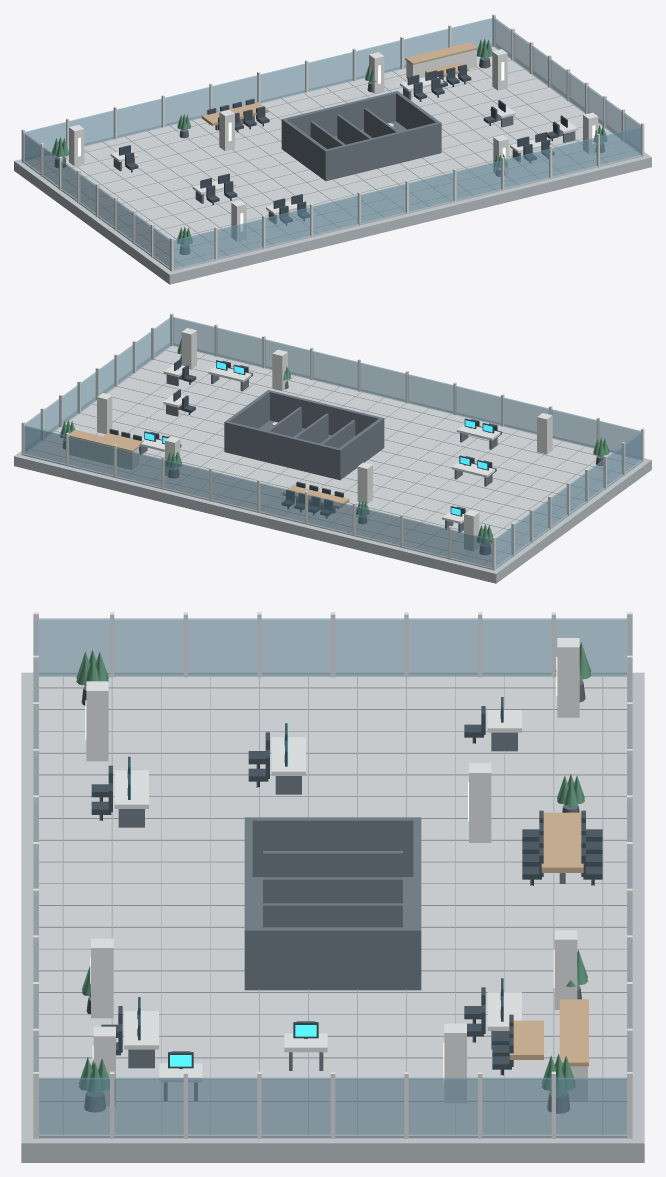
The model's file is open-office-floor.glb.
The picture shows the model from 3 angles, top to bottom: view 1: azimuth 30°, elevation 25°; view 2: azimuth 150°, elevation 25°; view 3: azimuth 270°, elevation 25°; orthographic projection. The views are drawn at different scales.
Parts seen in each view (by area): view 1: Porcelain floor, Blue curtain glass, Graphite core, White structure, Pale stone slab, Tile joints, Furniture charcoal, Warm oak, Plant leaves, Plant pots, Warm column light; view 2: Porcelain floor, Blue curtain glass, White structure, Graphite core, Pale stone slab, Tile joints, Furniture charcoal, Warm oak, Plant leaves, Blue monitor glass, Plant pots; view 3: Porcelain floor, Blue curtain glass, Graphite core, White structure, Pale stone slab, Tile joints, Furniture charcoal, Warm oak, Plant leaves, Plant pots, Blue monitor glass.
Part boxes in pixels (x1,y1,x2,y2): Porcelain floor: (23,46,641,270); Blue curtain glass: (23,18,641,269); Graphite core: (113,88,575,223); White structure: (21,14,644,271); Pale stone slab: (14,43,651,284); Tile joints: (31,56,634,266); Furniture charcoal: (119,64,567,225); Warm oak: (201,42,477,125); Plant leaves: (51,38,607,245); Plant pots: (54,57,604,254); Warm column light: (78,62,595,231); Porcelain floor: (24,345,642,569); Blue curtain glass: (24,317,642,568); White structure: (21,313,644,570); Graphite core: (139,374,497,532); Pale stone slab: (14,342,651,583); Tile joints: (31,350,634,565); Furniture charcoal: (109,358,501,518); Warm oak: (69,429,349,508); Plant leaves: (60,338,609,544); Blue monitor glass: (145,362,492,515); Plant pots: (63,355,603,554); Porcelain floor: (39,675,626,1138); Blue curtain glass: (34,618,631,1137); Graphite core: (118,732,565,1100); White structure: (33,612,632,1138); Pale stone slab: (21,672,644,1162); Tile joints: (39,676,626,1134); Furniture charcoal: (91,697,602,1075); Warm oak: (509,812,588,1066); Plant leaves: (76,642,591,1093); Plant pots: (81,679,585,1113); Blue monitor glass: (130,699,503,1066).
Size of the model in its own units: 22.7 by 2.07 by 12.7.
